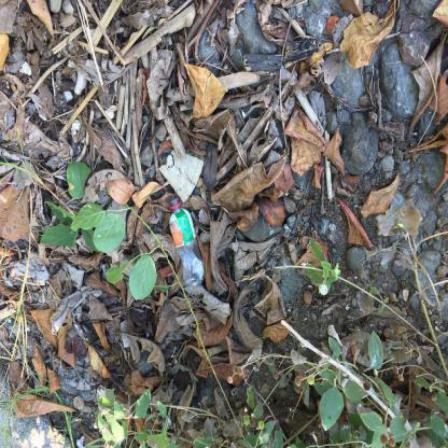Bottle: (170, 198, 206, 288)
Styrofoam piece: (160, 151, 205, 205), (20, 63, 32, 77), (65, 93, 75, 104), (39, 115, 48, 122)
